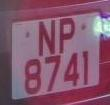1: (80, 49, 92, 90)
4: (63, 50, 82, 92)
7: (43, 53, 64, 95)
8: (19, 54, 46, 98)
N: (35, 16, 59, 60)
P: (56, 15, 78, 57)
